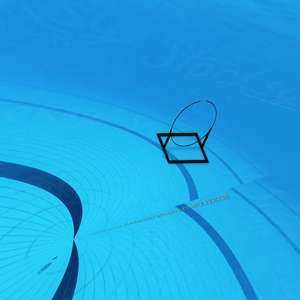circle: (156, 98, 219, 167)
